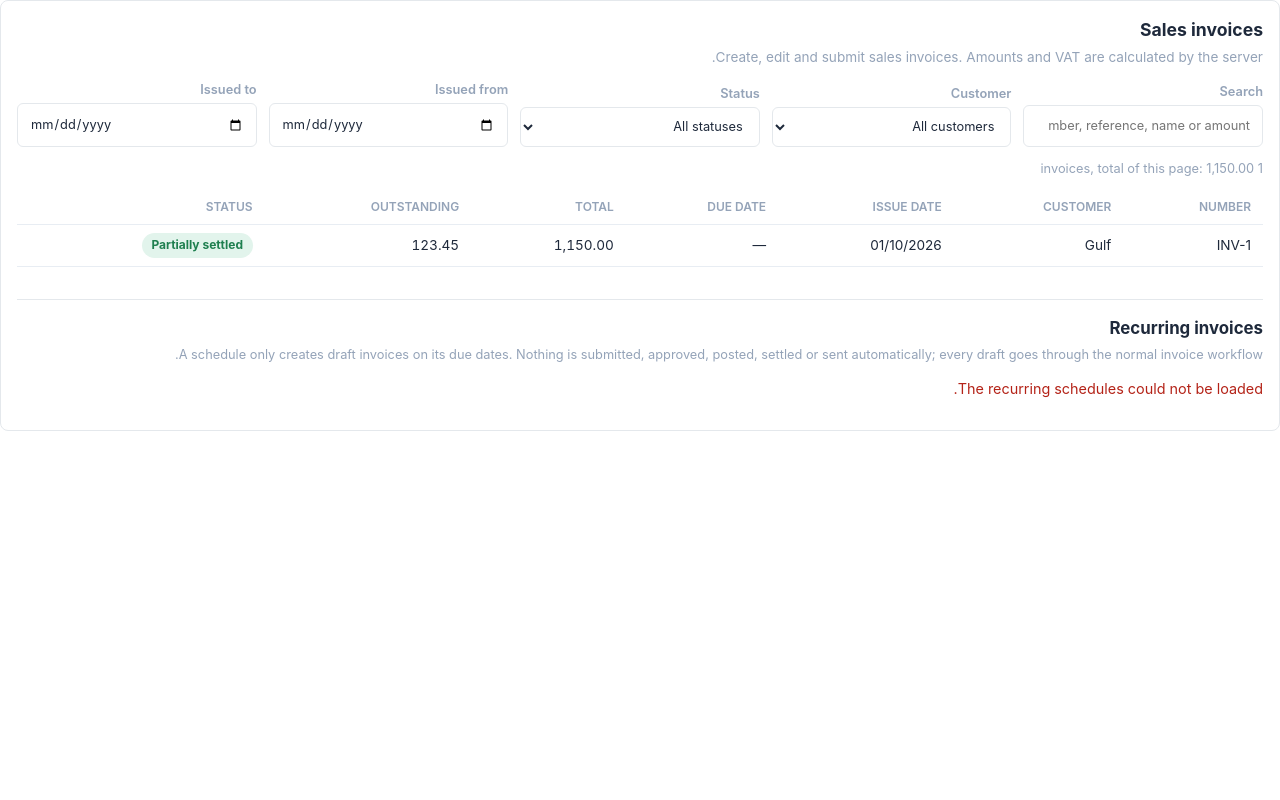
Test: Invoice side: Record collection / Record payment › shows server totals and the settlement history, not a client-computed balance
This screenshot has width=1280, height=800.
What coordinates should you click on to do the following:
click the text "INV-1"
I would click on:
 (1193, 245)
Its box is [1123,225,1263,266].
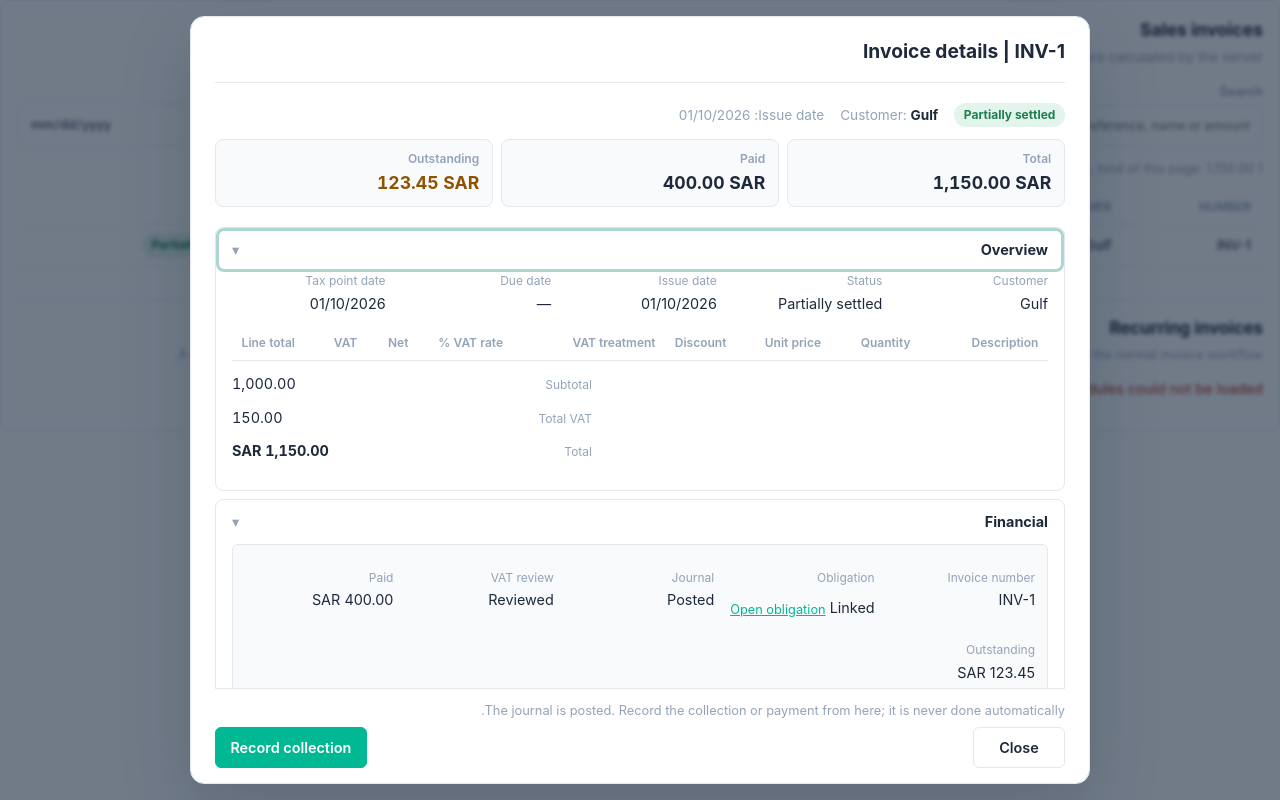
Check: the text "400.00 SAR" in the row of "05/10/2026" is shown, box [245,741,328,762]
Check: the text "123.45 SAR" below "Linked" is shown, box [957,664,1035,681]
Check: the 1st text "123.45 SAR" is shown, box [377,172,479,193]
